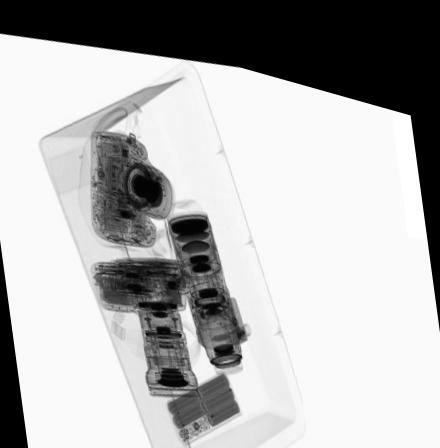Powerbank: (164, 354, 243, 439)
